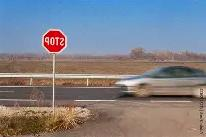Stop: (43, 30, 66, 52)
